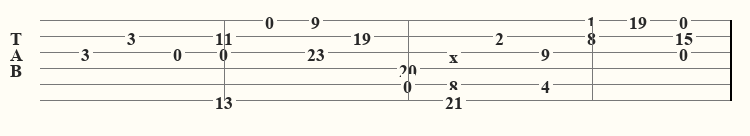0: (173, 44, 186, 60), (219, 44, 232, 60), (265, 12, 278, 28), (403, 76, 416, 92), (679, 44, 692, 60), (679, 12, 692, 28)
1: (587, 12, 600, 28)
11: (215, 28, 237, 44)
13: (215, 92, 237, 108)
15: (675, 28, 697, 44)
19: (353, 28, 375, 44), (629, 12, 651, 28)
2: (495, 28, 508, 44)
20: (399, 60, 421, 76)
21: (445, 92, 467, 108)
23: (307, 44, 329, 60)
3: (81, 44, 94, 60), (127, 28, 140, 44)
4: (541, 76, 554, 92)
8: (449, 76, 462, 92), (587, 28, 600, 44)
9: (311, 12, 324, 28), (541, 44, 554, 60)
x: (449, 46, 462, 58)
